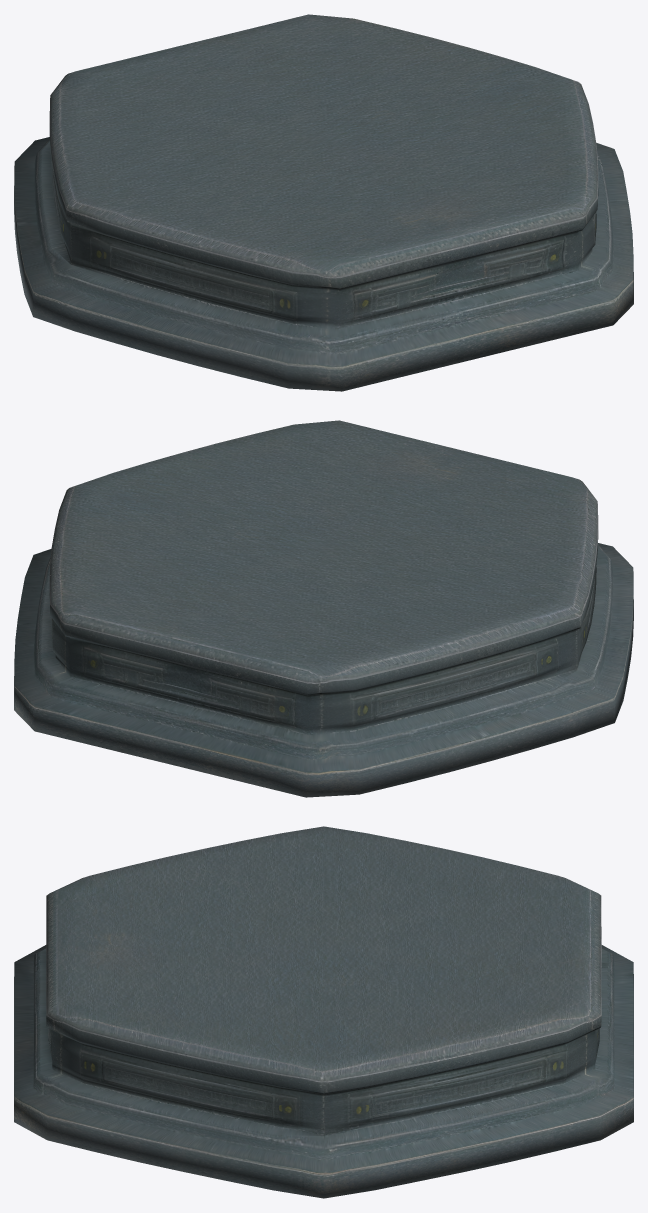
File: TianyiDais_LOD1.fbx
The picture shows the model from 3 angles, top to bottom: view 1: azimuth 30°, elevation 25°; view 2: azimuth 150°, elevation 25°; view 3: azimuth 270°, elevation 25°; orthographic projection.
Visible parts, largest first — view 1: TianyiDais_LOD1; view 2: TianyiDais_LOD1; view 3: TianyiDais_LOD1.
Boxes of the visible parts, left/top/right/bottom form: TianyiDais_LOD1: left=14, top=14, right=633, bottom=391; TianyiDais_LOD1: left=14, top=420, right=633, bottom=797; TianyiDais_LOD1: left=14, top=826, right=633, bottom=1198.
Size of the model in its own units: 3.13 by 0.55 by 2.86.
1 material, 1 textured.
